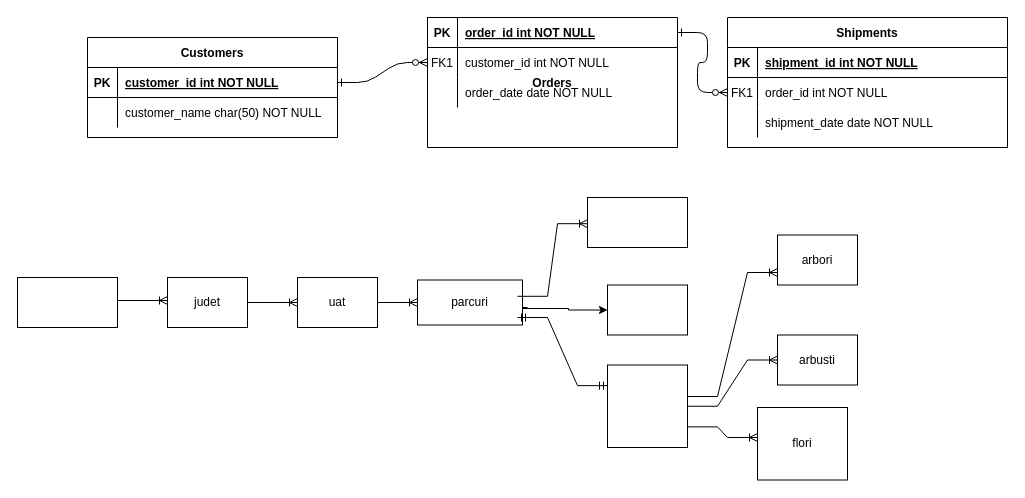
This 1025x498 diagram has some shape labels left out. The shapes that lost their labels are listed below. From the top down, each one's centre as x and y in pixels, then its label:
point (637, 222): mobilier_urban
point (67, 302): tara
point (647, 309): iluminat
point (647, 406): vegetatie
